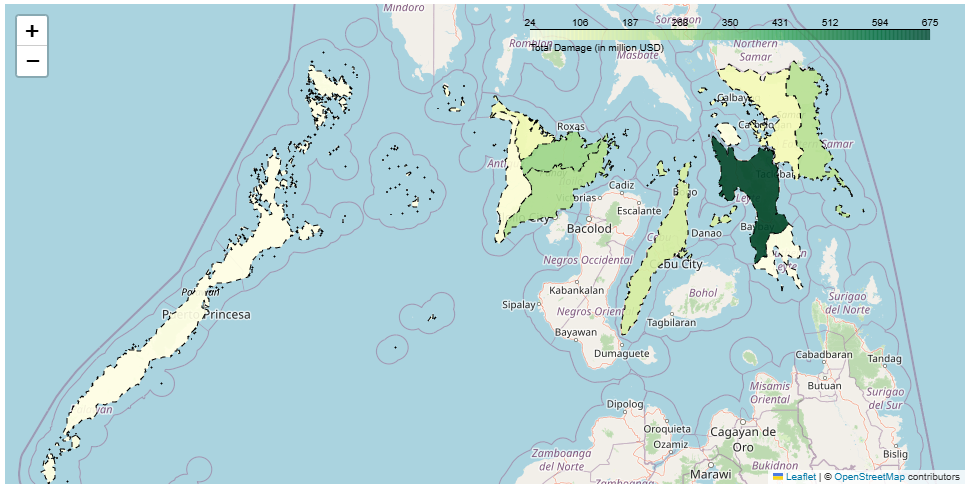

The dashboard page shown, as its layout file describes it:
{"tool":"powerbi","page":{"name":"Page 1","canvas":[1280,720],"ordinal":0},"visuals":[{"type":"map","title":"Damage (million USD)","fields":{"Series":["phl_damage_bi.Area"],"Category":["phl_damage_bi.Loc"],"Size":["Sum(phl_damage_bi.Damage_million_USD)"]},"box":[10.7,0,1235.6,693.6],"z":0}]}

Visuals, with their boxes in screenshot pixels (x1, y1, x2, y2):
"Damage (million USD)" map: bbox=(2, 25, 798, 472)
